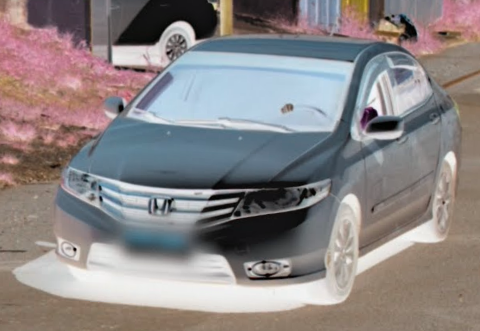car: (43, 21, 466, 317)
